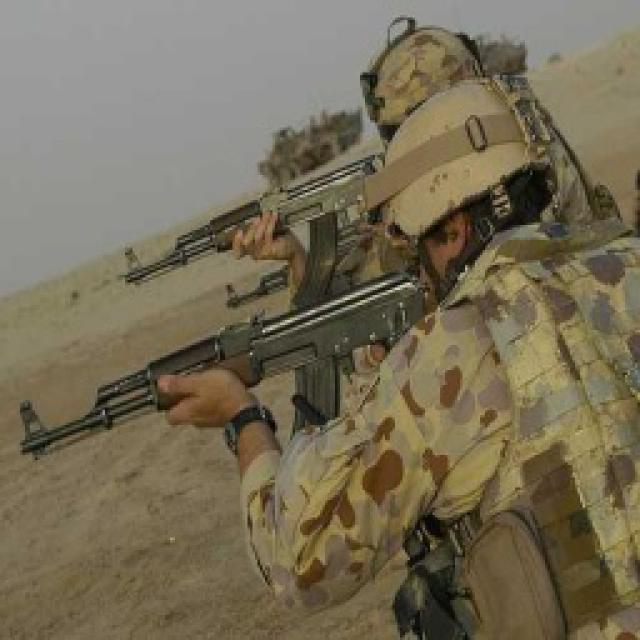long weapon: (15, 248, 411, 522), (120, 124, 377, 321)
